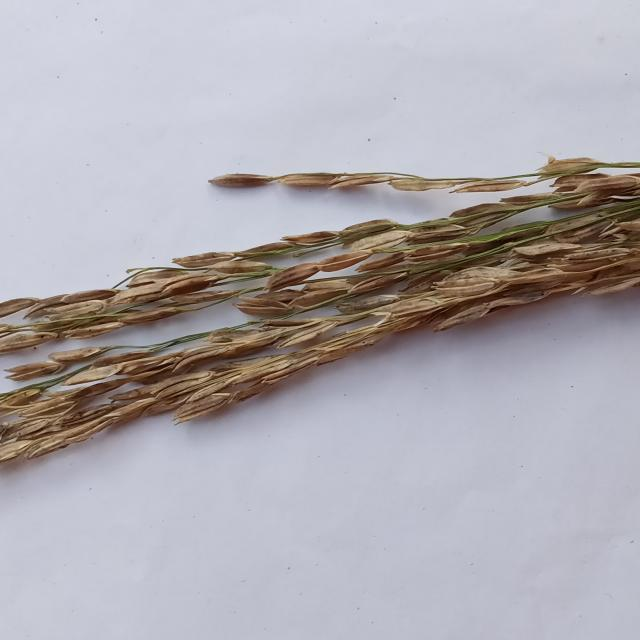Neck_Blast: (0, 186, 637, 465)
